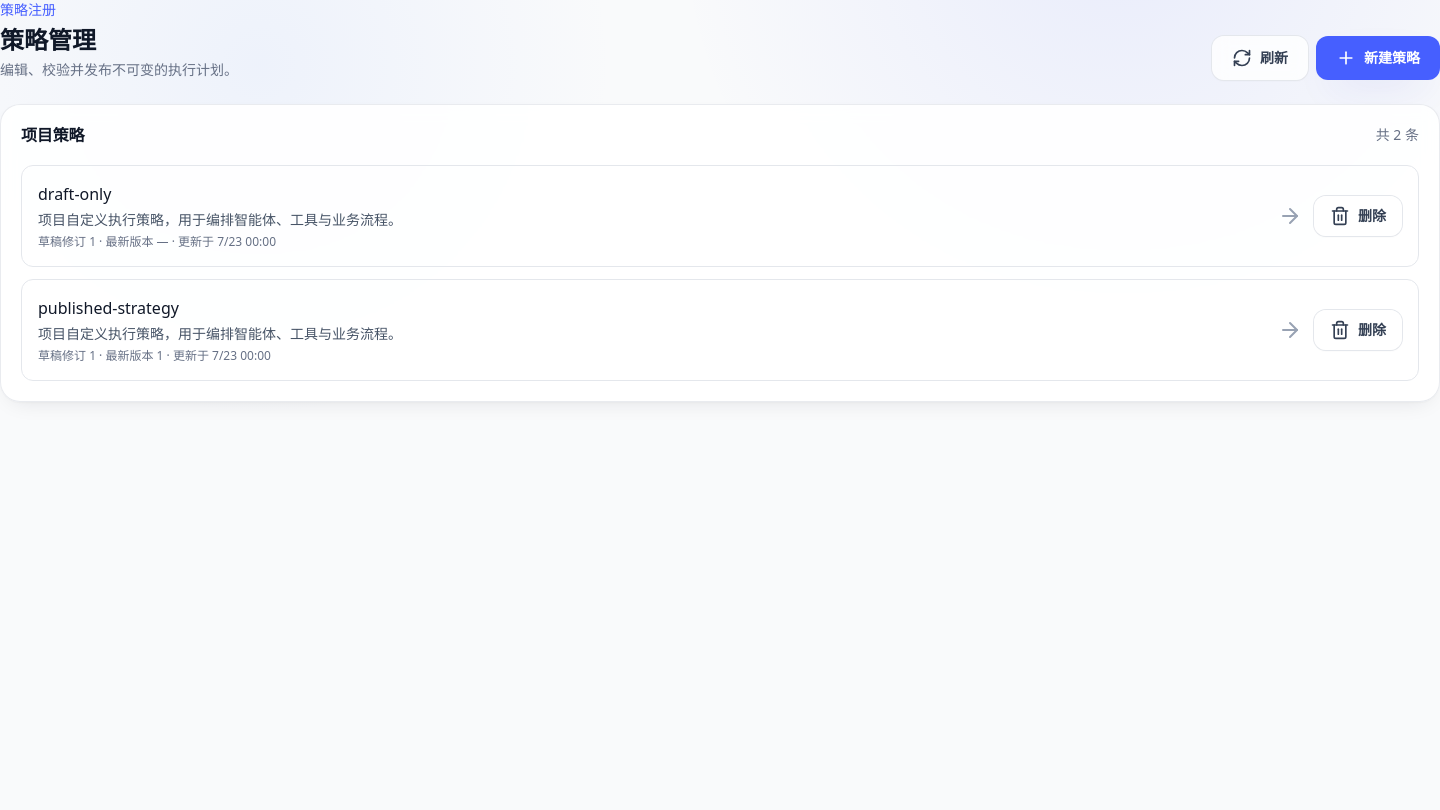
Test case: strategy delete ui › does not navigate when clicking delete on a card
This screenshot has width=1440, height=810.
Click the button with aria-label "删除 draft-only" at [1358, 216], box [1314,196,1402,236]
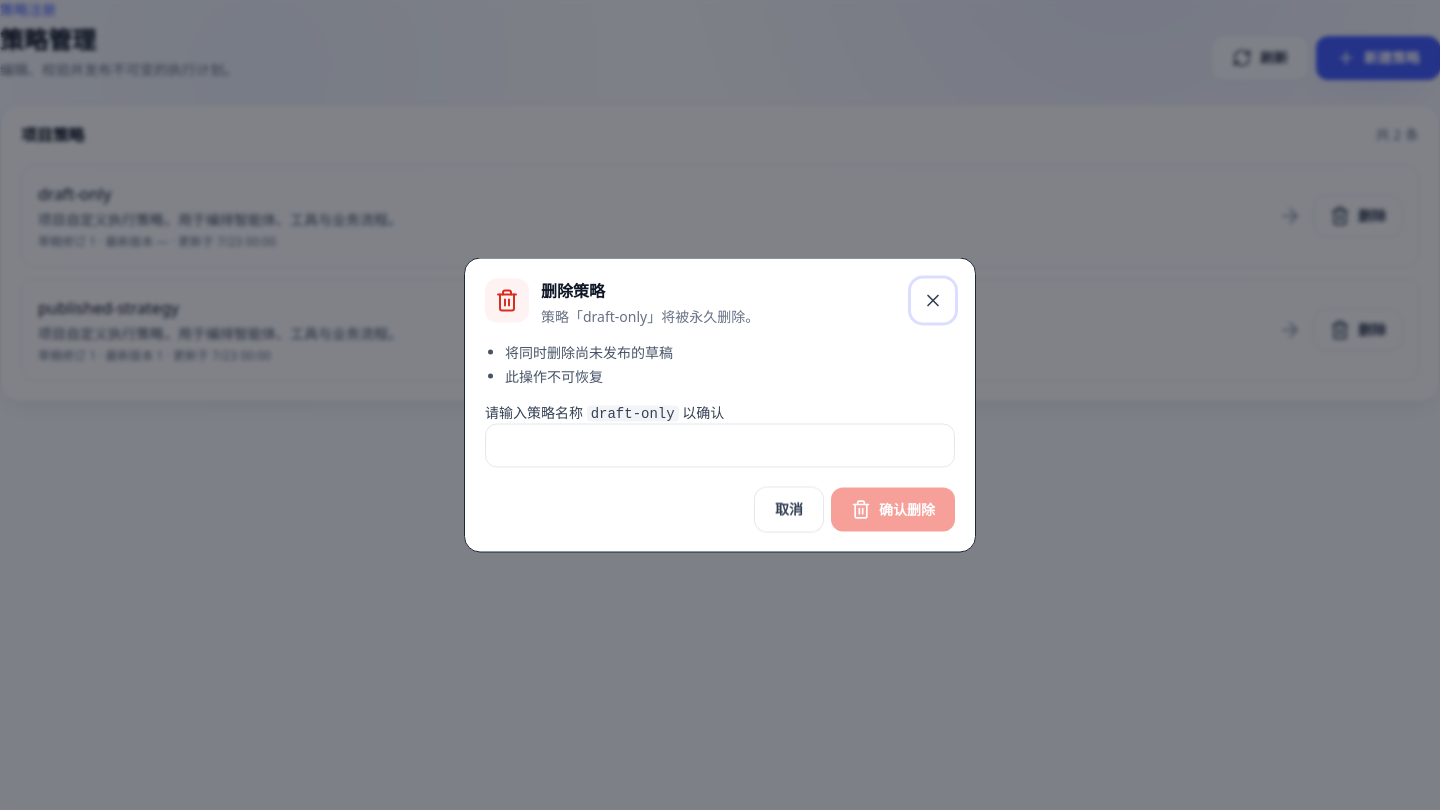
Check: the dialog "删除策略" is shown, box [464,258,976,552]
